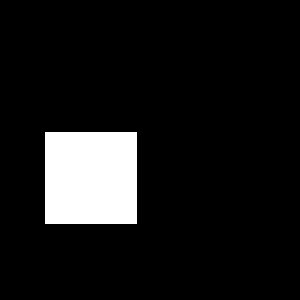circle: (45, 132, 137, 224)
